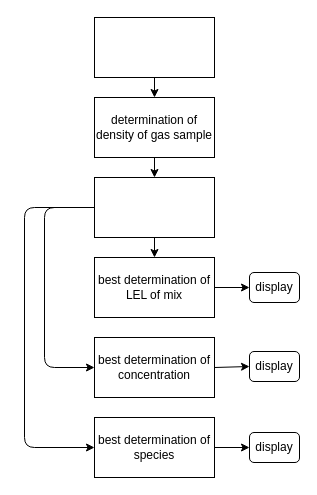
Image size: 317x495. Some labels were removed from this diagram. Each missing label, with the box of its shape:
determination of cooling rate of gas sample: (94, 176, 214, 238)
gas introduced to sensor: (94, 16, 214, 78)
